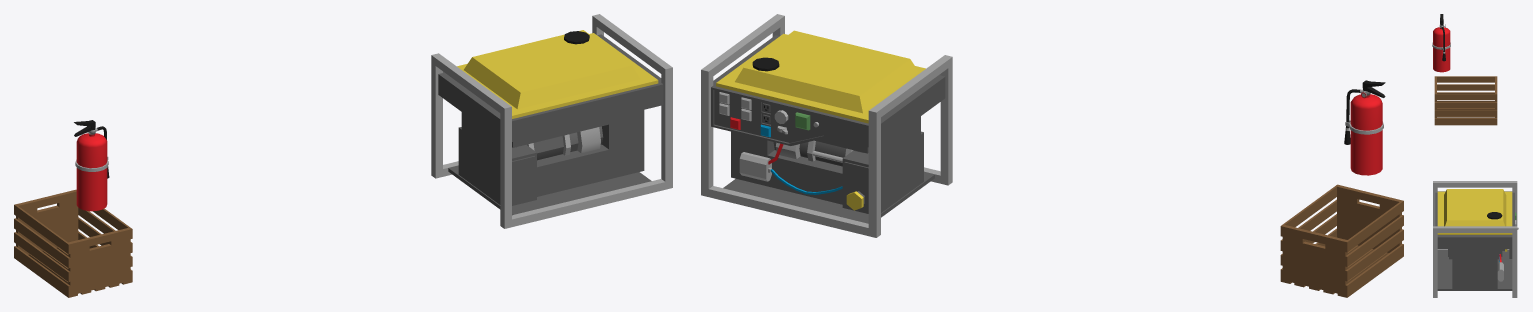
The model's file is Props_v01.fbx.
3 renders of one model, left to right at view 1: azimuth 30°, elevation 25°; view 2: azimuth 150°, elevation 25°; view 3: azimuth 270°, elevation 25°, orthographic. The views are drawn at different scales.
Visible parts, largest first — view 1: truck_cab_generator, crate, FireExtinguisher; view 2: truck_cab_generator, crate, FireExtinguisher; view 3: truck_cab_generator, crate, FireExtinguisher.
Part boxes in pixels (bbox=[...]): truck_cab_generator: bbox=[431, 14, 672, 228]; crate: bbox=[14, 189, 132, 297]; FireExtinguisher: bbox=[74, 120, 109, 211]; truck_cab_generator: bbox=[701, 14, 952, 237]; crate: bbox=[1280, 184, 1403, 297]; FireExtinguisher: bbox=[1344, 80, 1385, 175]; truck_cab_generator: bbox=[1433, 181, 1518, 297]; crate: bbox=[1434, 76, 1497, 125]; FireExtinguisher: bbox=[1432, 14, 1450, 72].
Bounding box in the file's own units: 3.47 × 1.12 × 0.7434.
